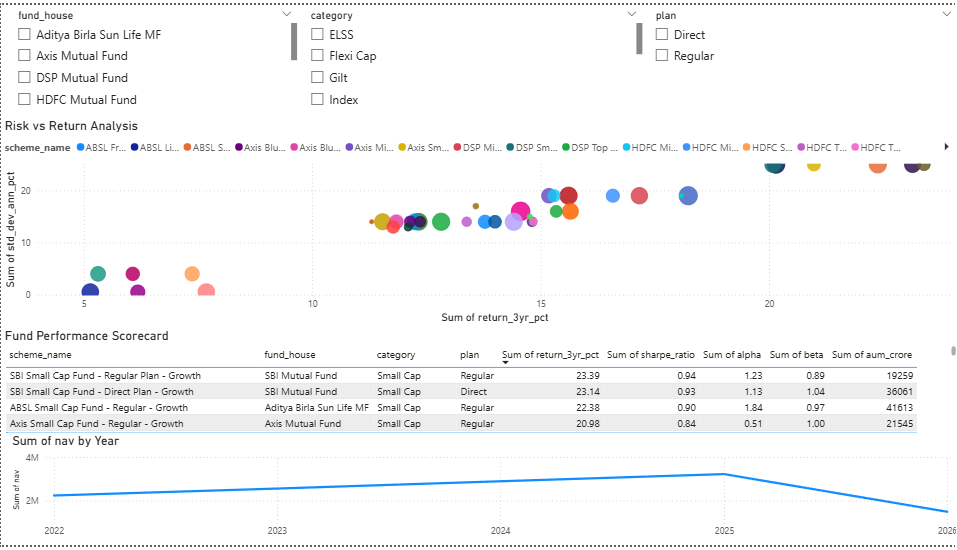

This screenshot's page, from the dashboard's own definition file:
{"tool":"powerbi","page":{"name":"Fund Performance","canvas":[1280,720],"ordinal":1},"visuals":[{"type":"scatterChart","title":"Risk vs Return Analysis","fields":{"X":["Sum(07_scheme_performance_clean.return_3yr_pct)"],"Y":["Sum(07_scheme_performance_clean.std_dev_ann_pct)"],"Series":["07_scheme_performance_clean.scheme_name"],"Size":["Sum(07_scheme_performance_clean.aum_crore)"]},"box":[0,150,1280,280],"z":0},{"type":"tableEx","title":"Fund Performance Scorecard","fields":{"Values":["07_scheme_performance_clean.scheme_name","07_scheme_performance_clean.fund_house","07_scheme_performance_clean.category","07_scheme_performance_clean.plan","Sum(07_scheme_performance_clean.return_3yr_pct)","Sum(07_scheme_performance_clean.sharpe_ratio)","Sum(07_scheme_performance_clean.alpha)","Sum(07_scheme_performance_clean.beta)","Sum(07_scheme_performance_clean.aum_crore)"]},"box":[0,430,1280,165],"z":1000},{"type":"lineChart","fields":{"Category":["02_nav_history_clean.date.Variation.Date Hierarchy.Year","02_nav_history_clean.date.Variation.Date Hierarchy.Quarter","02_nav_history_clean.date.Variation.Date Hierarchy.Month","02_nav_history_clean.date.Variation.Date Hierarchy.Day"],"Y":["Sum(02_nav_history_clean.nav)"]},"box":[10,570,1270,150],"z":2000},{"type":"slicer","fields":{"Values":["07_scheme_performance_clean.fund_house"]},"box":[10,0,390,150],"z":3000},{"type":"slicer","fields":{"Values":["07_scheme_performance_clean.category"]},"box":[400,0,460,150],"z":4000},{"type":"slicer","fields":{"Values":["07_scheme_performance_clean.plan"]},"box":[860,0,420,150],"z":5000}]}

Visuals, with their boxes in screenshot pixels (x1, y1, x2, y2), scaled from the page's 1280x720 canvas onto the 957x550 screenshot:
"Risk vs Return Analysis" scatterChart: [0,115,956,328]
"Fund Performance Scorecard" tableEx: [0,328,956,455]
lineChart - 02_nav_history_clean.date.Variation.Date Hierarchy.Year x 02_nav_history_clean.date.Variation.Date Hierarchy.Quarter: [7,435,956,549]
slicer - 07_scheme_performance_clean.fund_house: [7,0,299,115]
slicer - 07_scheme_performance_clean.category: [299,0,643,115]
slicer - 07_scheme_performance_clean.plan: [643,0,956,115]
